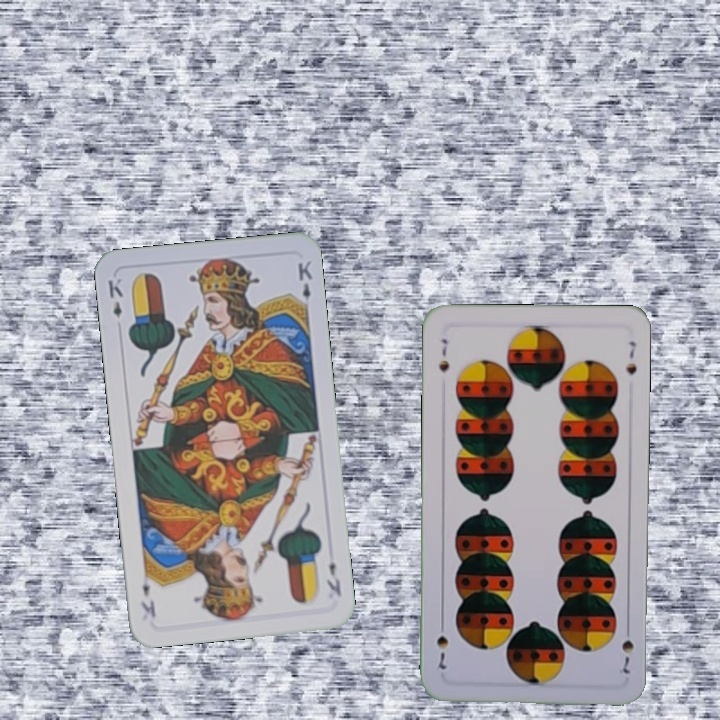EK: (104, 274, 125, 320), (322, 558, 344, 598)
S7: (617, 620, 636, 676), (435, 335, 452, 375)
